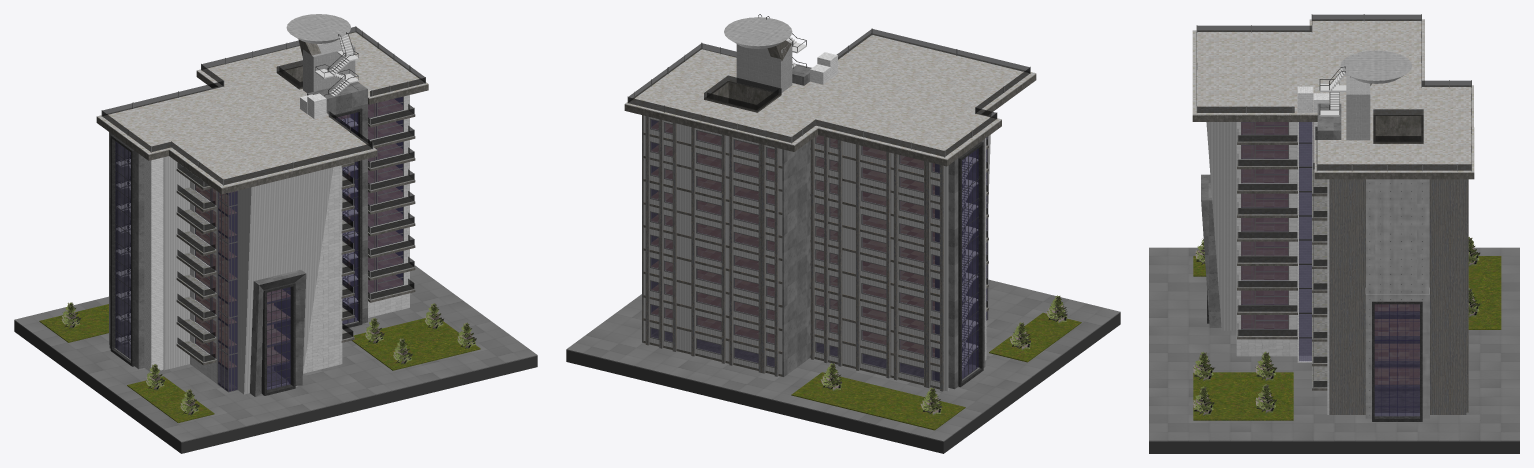
The model's file is modern_tower_office_apartment_house_home.glb.
3 renders of one model, left to right at view 1: azimuth 30°, elevation 25°; view 2: azimuth 150°, elevation 25°; view 3: azimuth 270°, elevation 25°, orthographic. The views are drawn at different scales.
Parts seen in each view (by area): view 1: Line135_Solid Glass_0, Box752, Rectangle004_14 - Polished Aluminum_0, Box741, Box723_05 - Default_0, Box722_14 - Polished Aluminum_0, Box442_03 - Default_0, Box007_04 - Default_0, Line164, Box713_03 - Default_0, Plane002_12 - Car Paint_0, Box834 (+27 smaller); view 2: Line135_Solid Glass_0, Box752, Box718_14 - Polished Aluminum_0, Box727_14 - Polished Aluminum_0, Box741, Box719_03 - Default_0, Line164, Box442_03 - Default_0, Box836, Plane002_12 - Car Paint_0, Line123_Metal_0, Rectangle108 (+42 smaller); view 3: Box752, Line135_Solid Glass_0, Box716_06 - Default_0, Box714_06 - Default_0, Rectangle003_24 - Default_0, Plane004_12 - Car Paint_0, Rectangle004_14 - Polished Aluminum_0, Box741, Box834, Box003_04 - Default_0, Line164, Box751 (+55 smaller).
Boxes of the visible parts, box(x1,y1,x2,y2) form: Line135_Solid Glass_0: box(96, 31, 428, 188); Box752: box(14, 262, 537, 442); Rectangle004_14 - Polished Aluminum_0: box(229, 167, 333, 394); Box741: box(14, 320, 537, 453); Box723_05 - Default_0: box(303, 165, 341, 373); Box722_14 - Polished Aluminum_0: box(163, 156, 189, 370); Box442_03 - Default_0: box(109, 132, 144, 369); Box007_04 - Default_0: box(144, 157, 163, 372); Line164: box(102, 27, 425, 184); Box713_03 - Default_0: box(250, 269, 306, 396); Plane002_12 - Car Paint_0: box(115, 141, 130, 358); Box834: box(352, 318, 480, 370); Line135_Solid Glass_0: box(624, 33, 1036, 160); Box752: box(566, 279, 1120, 441); Box718_14 - Polished Aluminum_0: box(643, 115, 782, 374); Box727_14 - Polished Aluminum_0: box(810, 137, 948, 391); Box741: box(566, 313, 1120, 453); Box719_03 - Default_0: box(782, 141, 810, 376); Line164: box(628, 29, 1029, 156); Box442_03 - Default_0: box(935, 139, 985, 389); Box836: box(791, 372, 965, 430); Plane002_12 - Car Paint_0: box(962, 148, 978, 378); Line123_Metal_0: box(624, 74, 1036, 166); Rectangle108: box(958, 141, 983, 387); Box752: box(1149, 247, 1519, 441); Line135_Solid Glass_0: box(1192, 19, 1474, 172); Box716_06 - Default_0: box(1429, 179, 1466, 414); Box714_06 - Default_0: box(1329, 179, 1365, 414); Rectangle003_24 - Default_0: box(1366, 179, 1429, 293); Plane004_12 - Car Paint_0: box(1374, 304, 1419, 416); Rectangle004_14 - Polished Aluminum_0: box(1206, 122, 1236, 330); Box741: box(1149, 441, 1519, 453); Box834: box(1193, 372, 1293, 420); Box003_04 - Default_0: box(1297, 86, 1313, 362); Line164: box(1196, 14, 1471, 170); Box751: box(1299, 122, 1313, 361).
Bounding box in the file's own units: 54.84 × 43.39 × 44.54.
21 materials, 14 textured.
